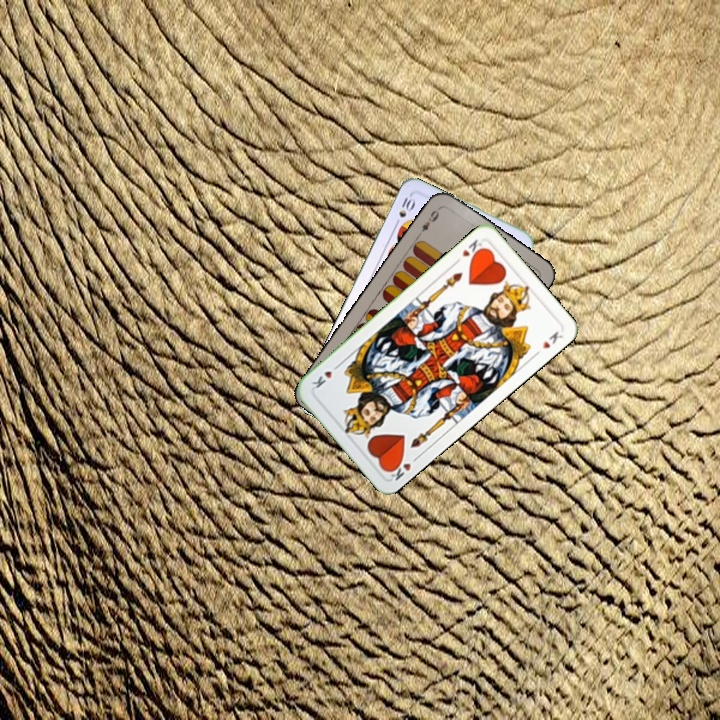E9: (414, 203, 443, 239)
HK: (384, 452, 422, 483), (451, 235, 486, 267)
S10: (390, 193, 418, 229)
